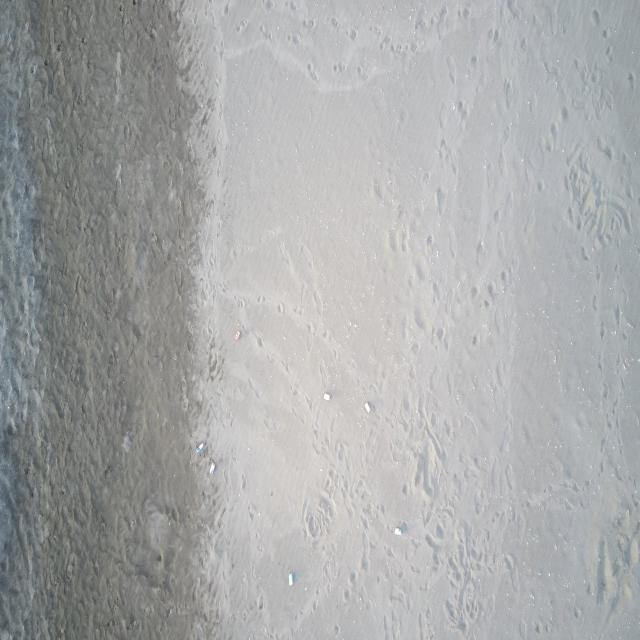Garbage: (195, 440, 206, 453), (207, 460, 215, 473), (364, 400, 371, 412), (233, 328, 240, 340), (287, 572, 293, 586), (392, 527, 402, 535), (324, 392, 331, 399)
